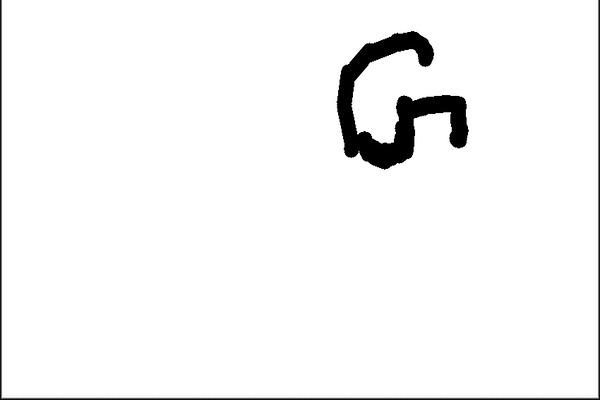G: (333, 26, 471, 175)
